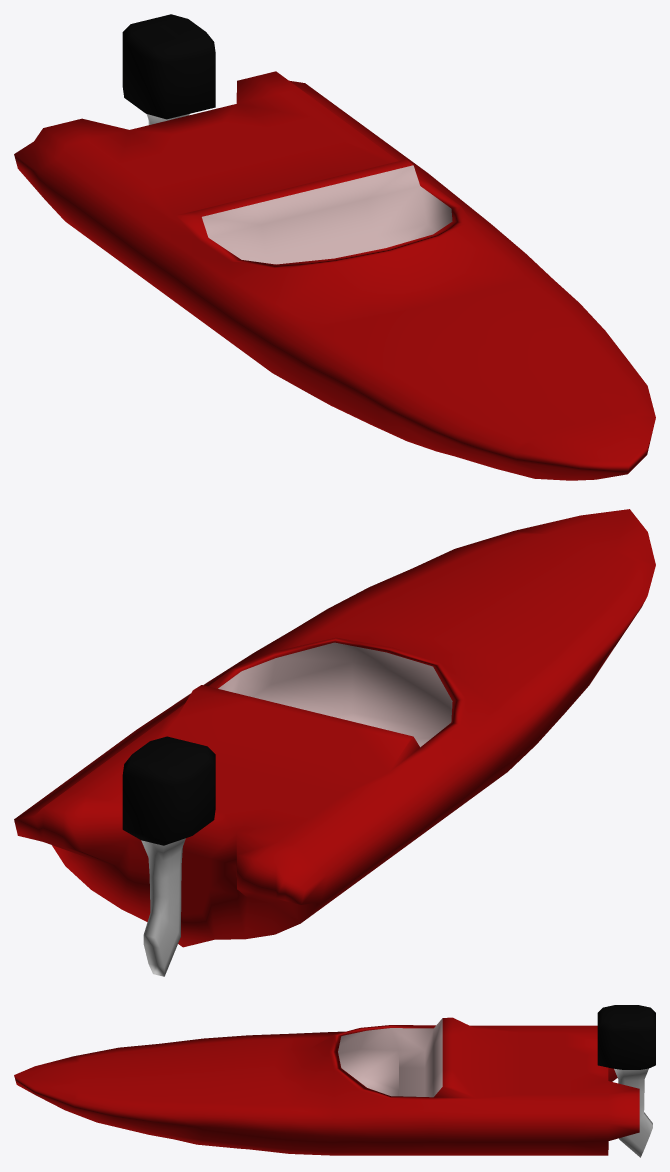
The model's file is Red Ghayegh Motori.fbx.
3 views of the same model, one above another, from view 1: azimuth 30°, elevation 25°; view 2: azimuth 150°, elevation 25°; view 3: azimuth 270°, elevation 25° (orthographic). The views are drawn at different scales.
Parts seen in each view (by area): view 1: boat, motor; view 2: boat, motor; view 3: boat, motor.
Boxes of the visible parts, x1=… form: boat: x1=14, y1=71, x2=655, y2=480; motor: x1=122, y1=14, x2=215, y2=124; boat: x1=14, y1=509, x2=655, y2=947; motor: x1=122, y1=736, x2=215, y2=976; boat: x1=14, y1=1017, x2=639, y2=1155; motor: x1=597, y1=1005, x2=655, y2=1157.
Bounding box in the file's own units: 182 × 128 × 523.
